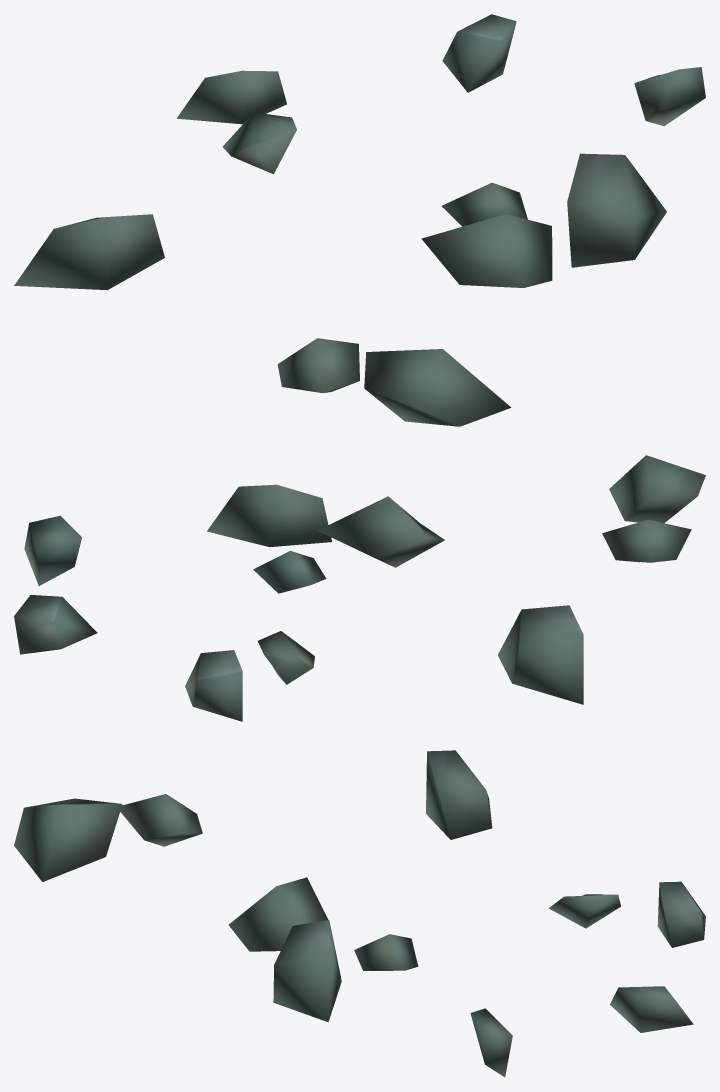
File: Rocks.fbx
The picture shows the model from 3 angles, top to bottom: view 1: azimuth 30°, elevation 25°; view 2: azimuth 150°, elevation 25°; view 3: azimuth 270°, elevation 25°; orthographic projection. The views are drawn at different scales.
Parts seen in each view (by area): view 1: Cube.015, Cube.017, Cube.022, Cube.019, Cube.021, Cube.023, Cube.018, Cube.014, Cube.020, Cube.016; view 2: Cube.017, Cube.015, Cube.019, Cube.022, Cube.023, Cube.021, Cube.018, Cube.014, Cube.016, Cube.020; view 3: Cube.022, Cube.015, Cube.017, Cube.019, Cube.018, Cube.023, Cube.021, Cube.016, Cube.014, Cube.020.
Boxes of the visible parts, <box> form: Cube.015: <box>567,153,666,267</box>; Cube.017: <box>14,214,164,290</box>; Cube.022: <box>364,349,511,426</box>; Cube.019: <box>421,214,552,287</box>; Cube.021: <box>176,70,286,124</box>; Cube.023: <box>442,14,516,92</box>; Cube.018: <box>277,338,359,392</box>; Cube.014: <box>634,67,705,126</box>; Cube.020: <box>222,112,296,174</box>; Cube.016: <box>441,182,527,226</box>; Cube.017: <box>498,605,583,704</box>; Cube.015: <box>207,484,331,547</box>; Cube.019: <box>317,496,444,567</box>; Cube.022: <box>609,455,705,523</box>; Cube.023: <box>14,595,97,654</box>; Cube.021: <box>185,650,242,721</box>; Cube.018: <box>602,519,691,562</box>; Cube.014: <box>24,515,81,585</box>; Cube.016: <box>253,550,326,593</box>; Cube.020: <box>258,631,314,684</box>; Cube.022: <box>14,798,122,881</box>; Cube.015: <box>273,920,341,1022</box>; Cube.017: <box>426,750,492,839</box>; Cube.019: <box>228,877,328,951</box>; Cube.018: <box>120,794,202,846</box>; Cube.023: <box>610,986,693,1032</box>; Cube.021: <box>657,881,705,947</box>; Cube.016: <box>354,934,418,970</box>; Cube.014: <box>470,1008,512,1077</box>; Cube.020: <box>549,894,620,928</box>.
Size of the model in its own units: 1.77 by 0.2325 by 1.82.
